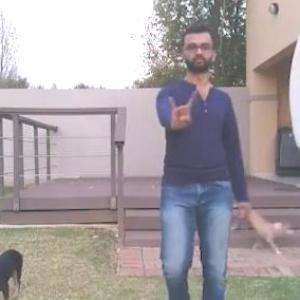takeoff-hand: (160, 84, 200, 136)
